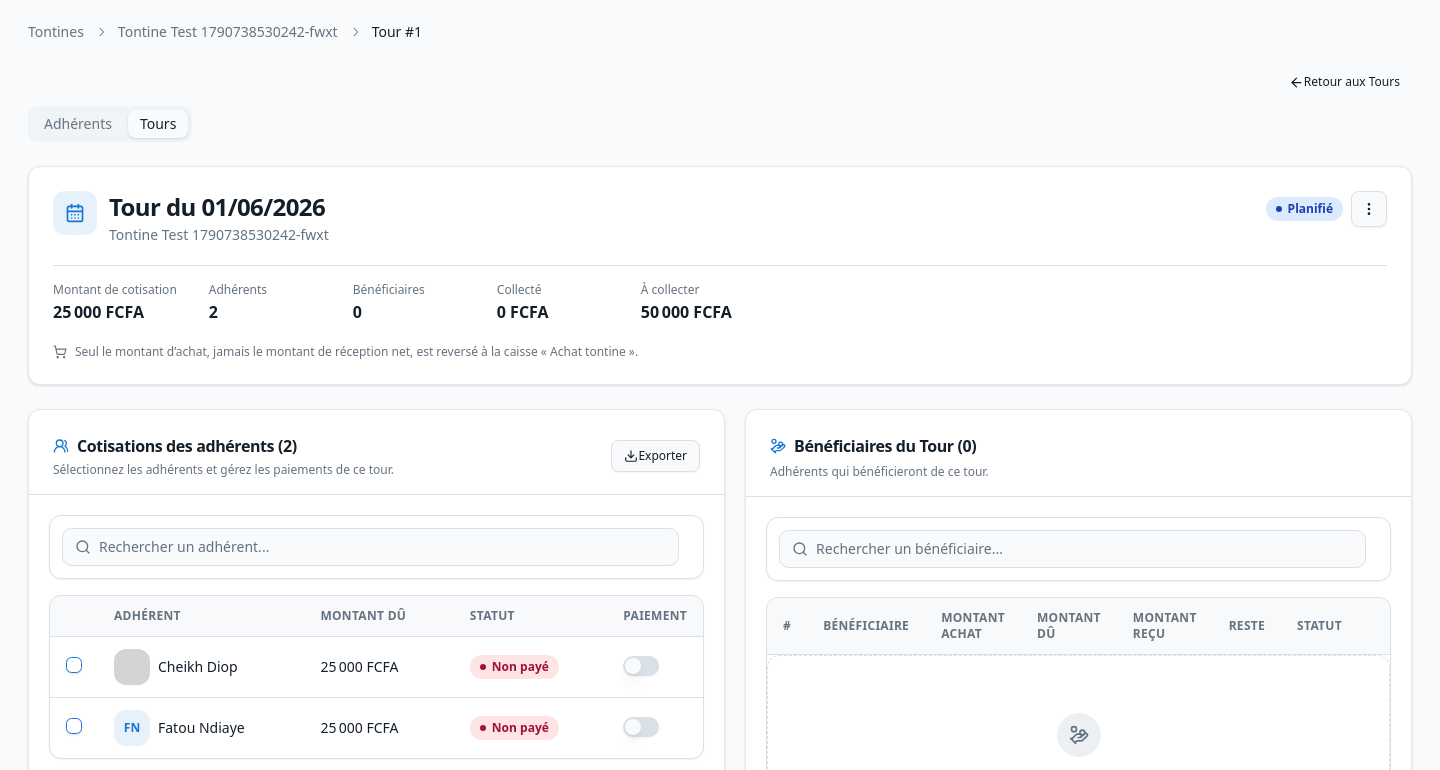
Test: Espace de travail du Tour — Bénéficiaires (Ajouter →/← Enlever) › retirer un bénéficiaire via le menu ⋮ de sa ligne fonctionne — jamais une suppression silencieuse de l’historique
The width and height of the screenshot is (1440, 770).
Check: the text "Fatou Ndiaye" is shown, box [158,718,245,737]
Click the checkbox named "Sélectionner" next to "FN" at point(74, 726), box [66,718,82,734]
(page scrolled)
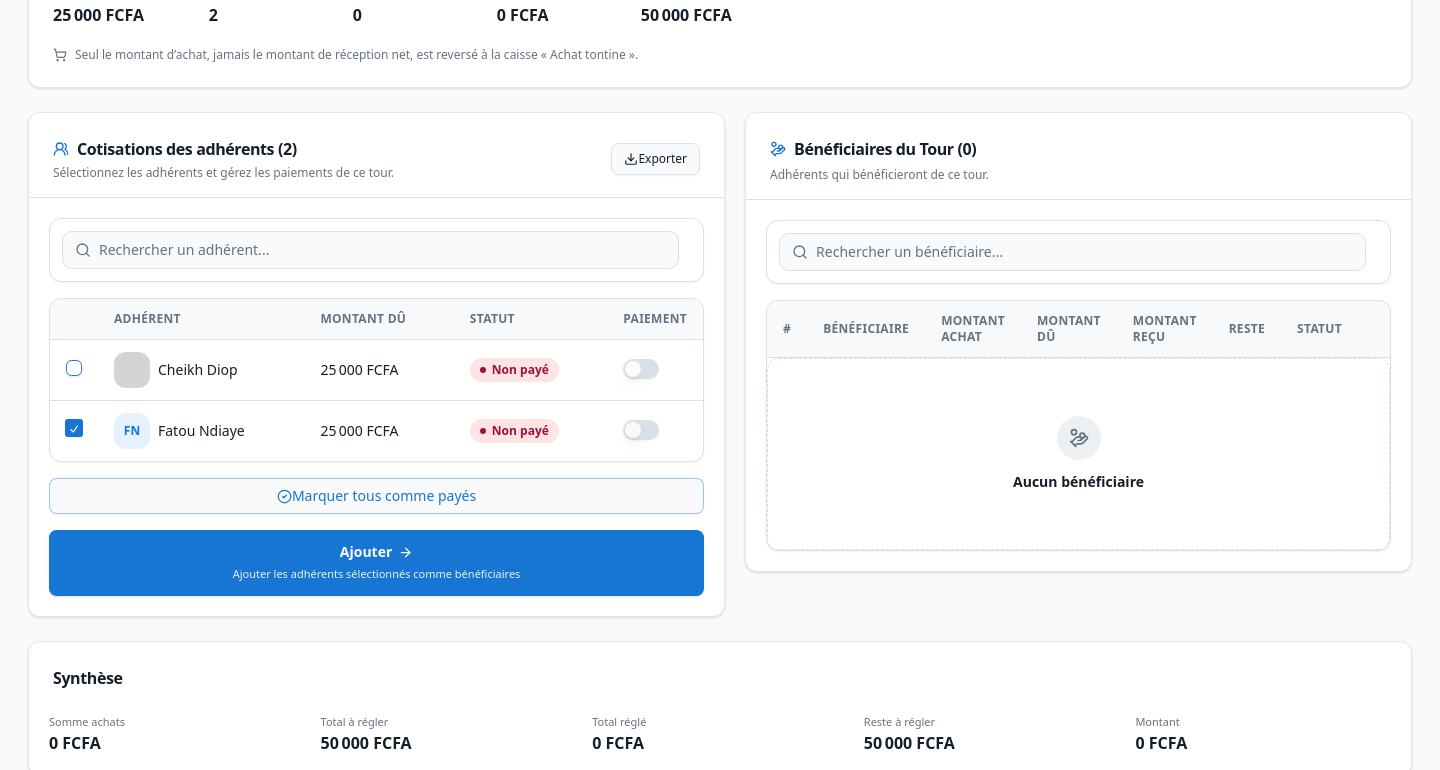
Click the button "Ajouter" at point(377, 563), box [49,530,704,596]
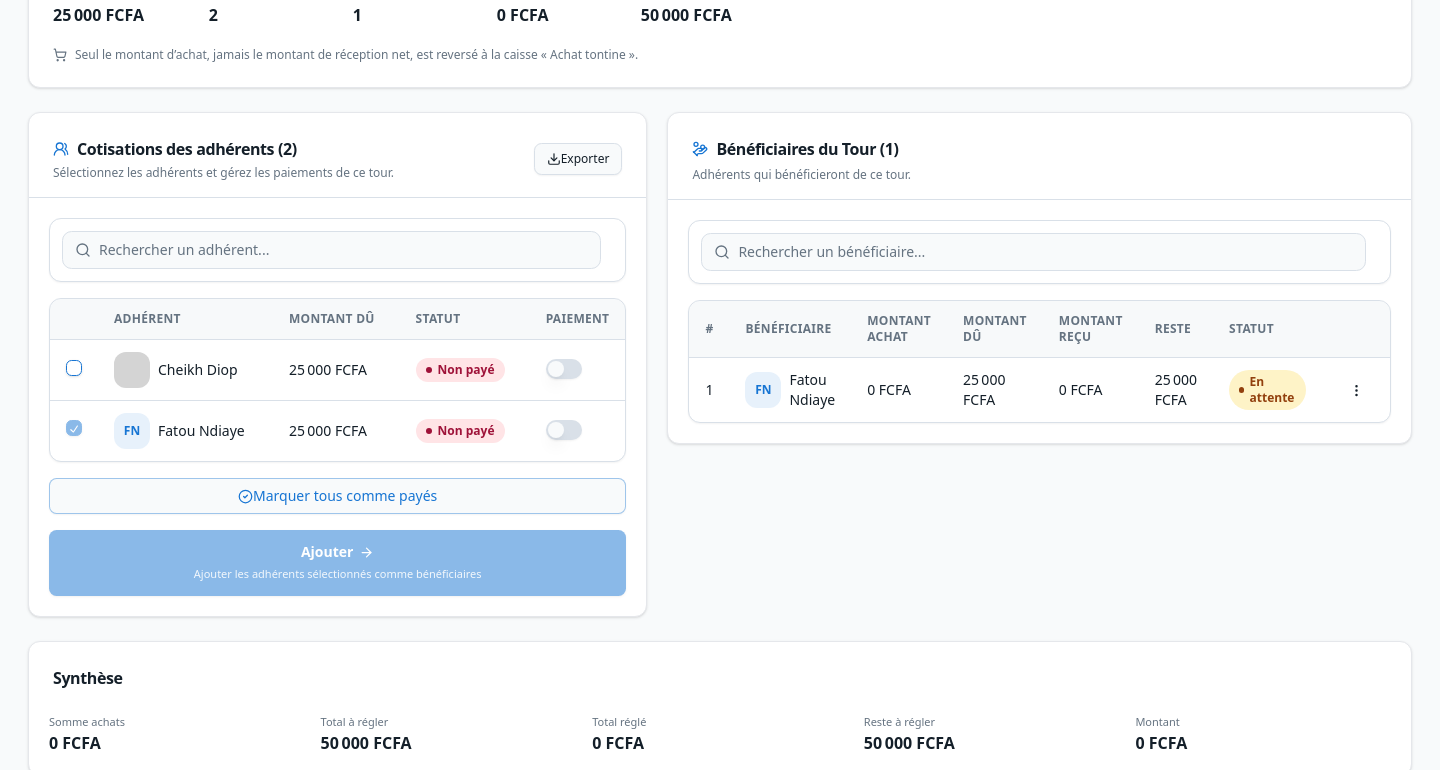
Click the button named "Actions" at point(1356, 390), box [1338,372,1374,408]
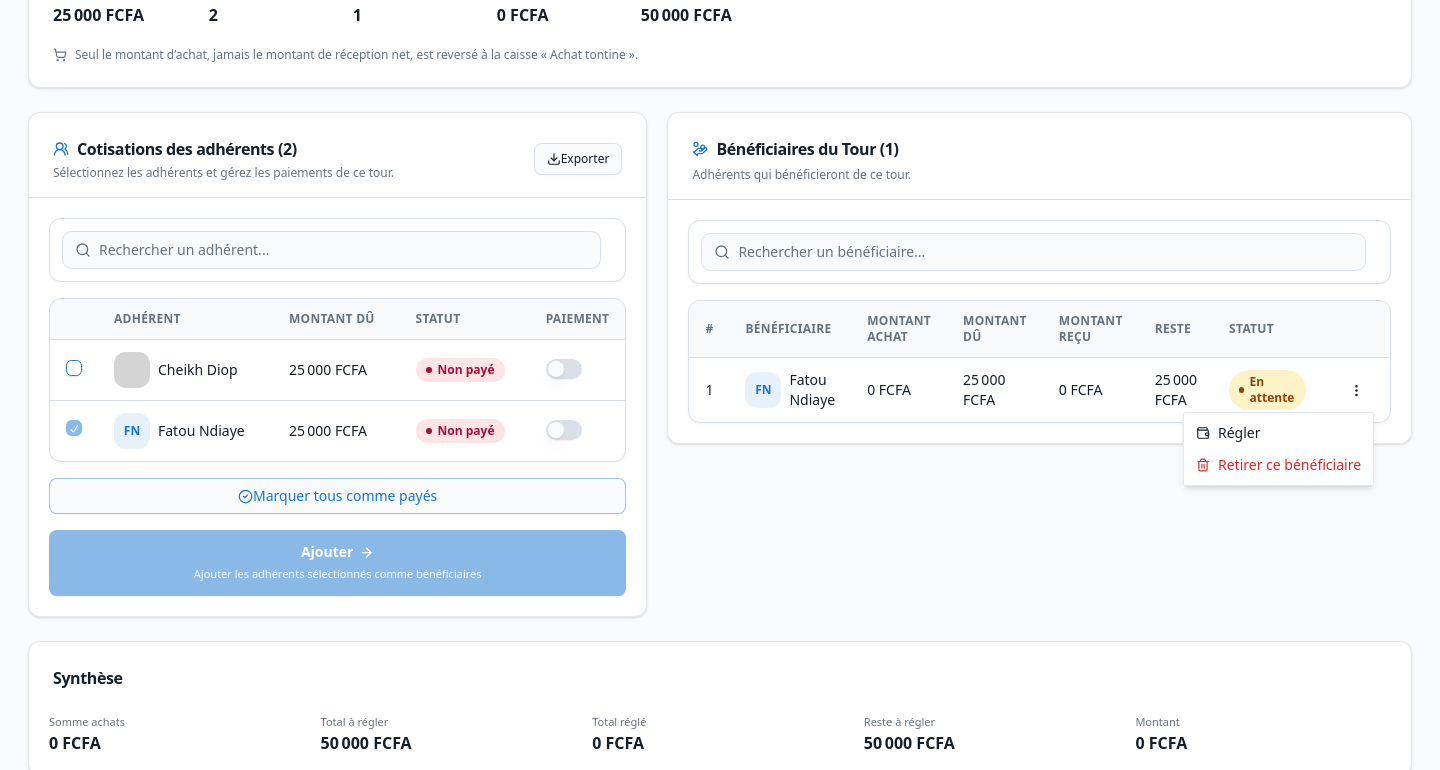
Click the menu item "Retirer ce bénéficiaire" at point(1278, 464), box [1196,455,1361,474]
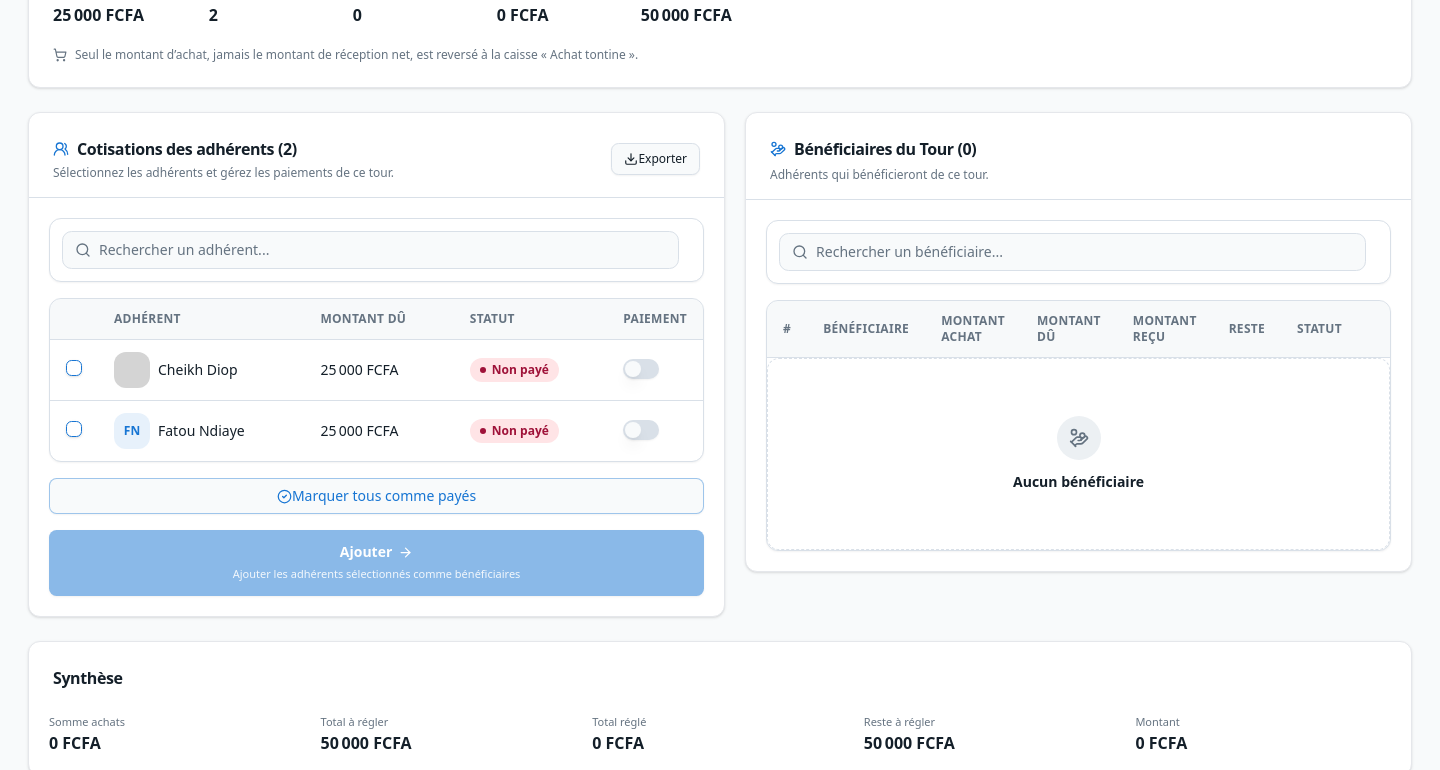
Check: the text "Bénéficiaires du Tour (0)" is shown, box [770,138,976,160]
